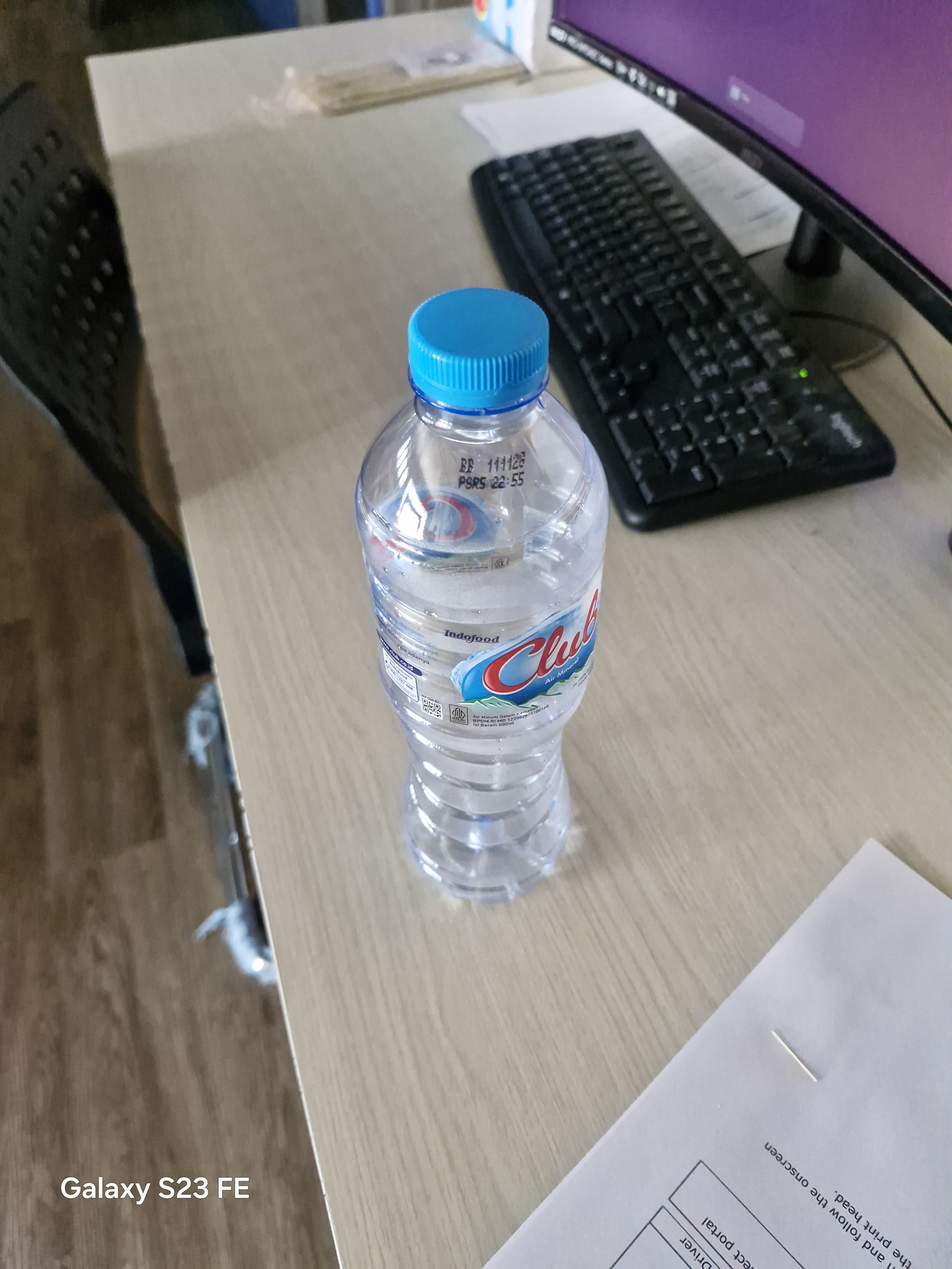bottle: (355, 289, 608, 901)
chair: (0, 83, 209, 674)
floor-other-merged: (0, 571, 291, 1268)
keyboard: (472, 131, 894, 529)
paper: (489, 841, 951, 1268)
table-merged: (89, 0, 951, 1268)
tv: (553, 0, 951, 289)
